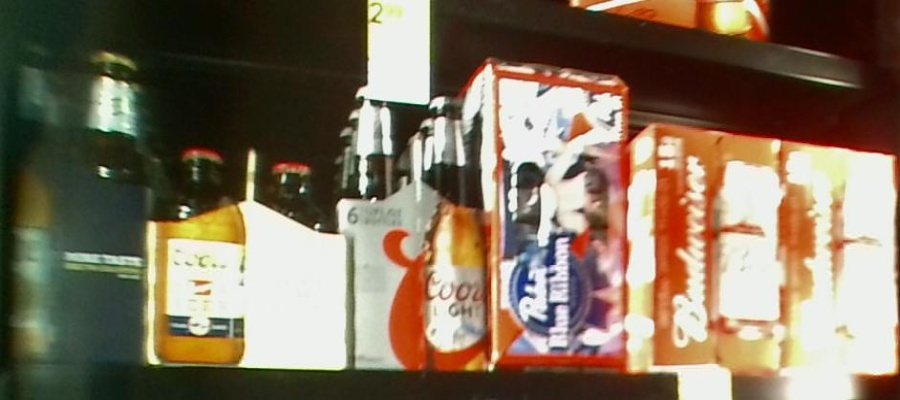bottle: (1, 47, 152, 360), (482, 58, 631, 375), (152, 140, 348, 373), (349, 84, 488, 372), (632, 127, 786, 373), (783, 137, 896, 373)
